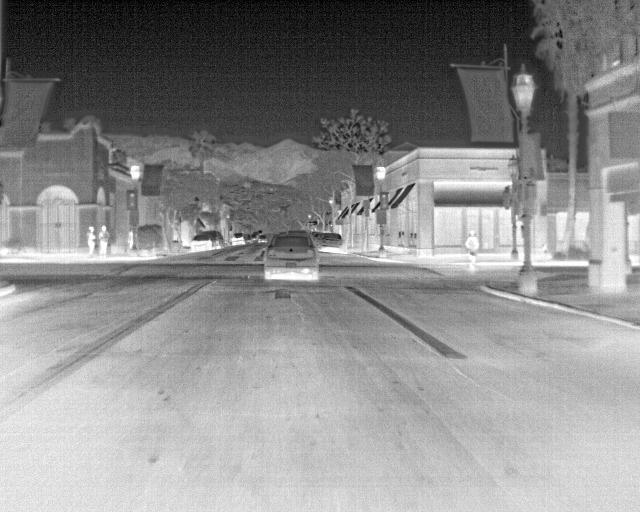bicycle: (260, 233, 319, 283), (317, 233, 345, 253), (189, 233, 216, 253), (227, 230, 247, 247)
empty: (462, 227, 481, 277), (94, 222, 108, 259), (84, 224, 96, 259)
